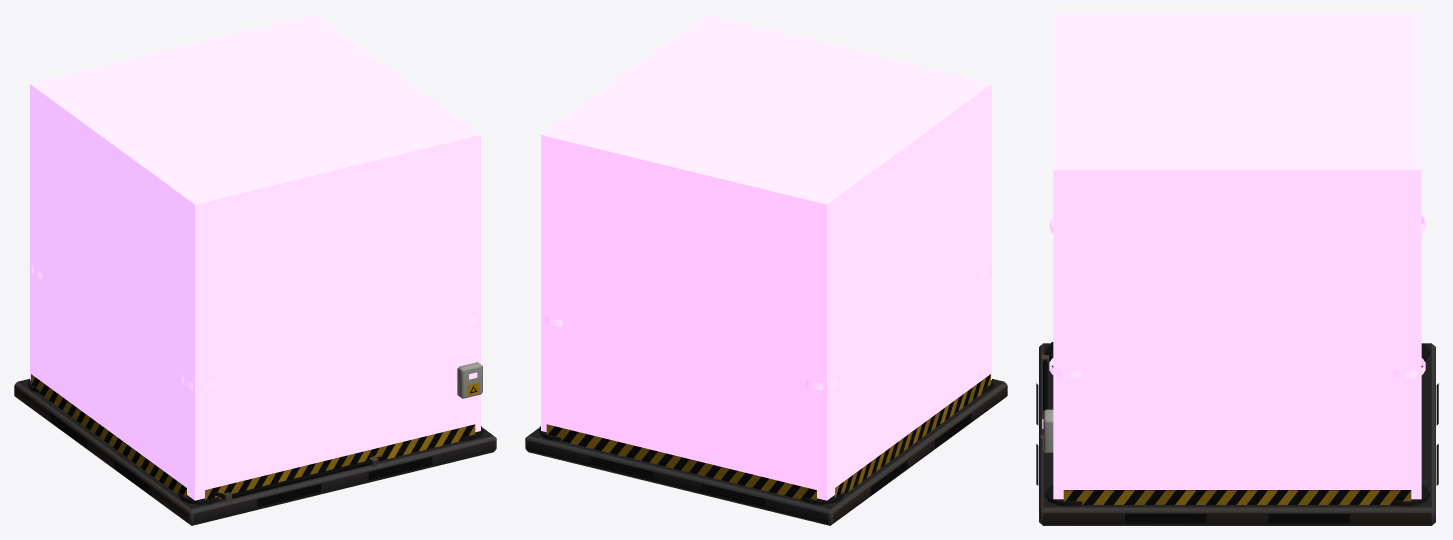
The model's file is concept_gravity_inverter.glb.
3 views of the same model, side by side, from view 1: azimuth 30°, elevation 25°; view 2: azimuth 150°, elevation 25°; view 3: azimuth 270°, elevation 25° (orthographic). The views are drawn at different scales.
Parts seen in each view (by area): view 1: Field, Frame; view 2: Field, Frame; view 3: Field, Frame.
Part boxes in pixels (x1,y1,x2,y2): Field: (30,14,480,500); Frame: (14,265,496,525); Field: (541,14,991,500); Frame: (525,265,1007,525); Field: (1053,14,1421,499); Frame: (1036,216,1438,525).
Size of the model in its own units: 1.97 by 1.9 by 1.97.
